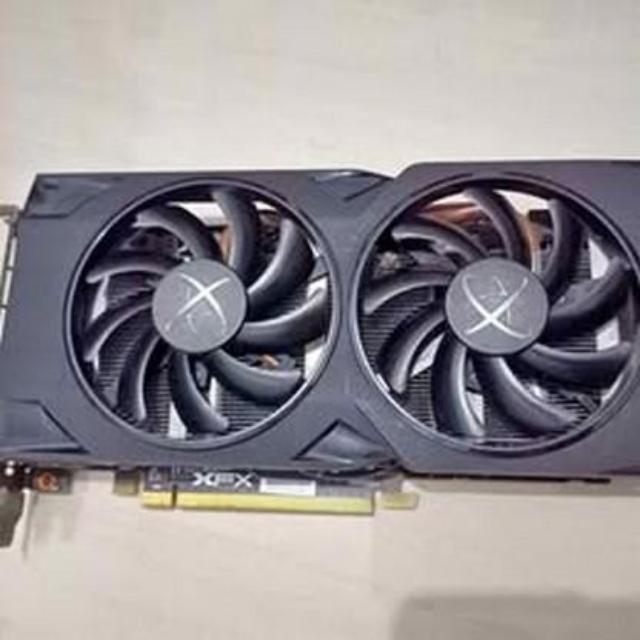GPU: (0, 160, 640, 522)
